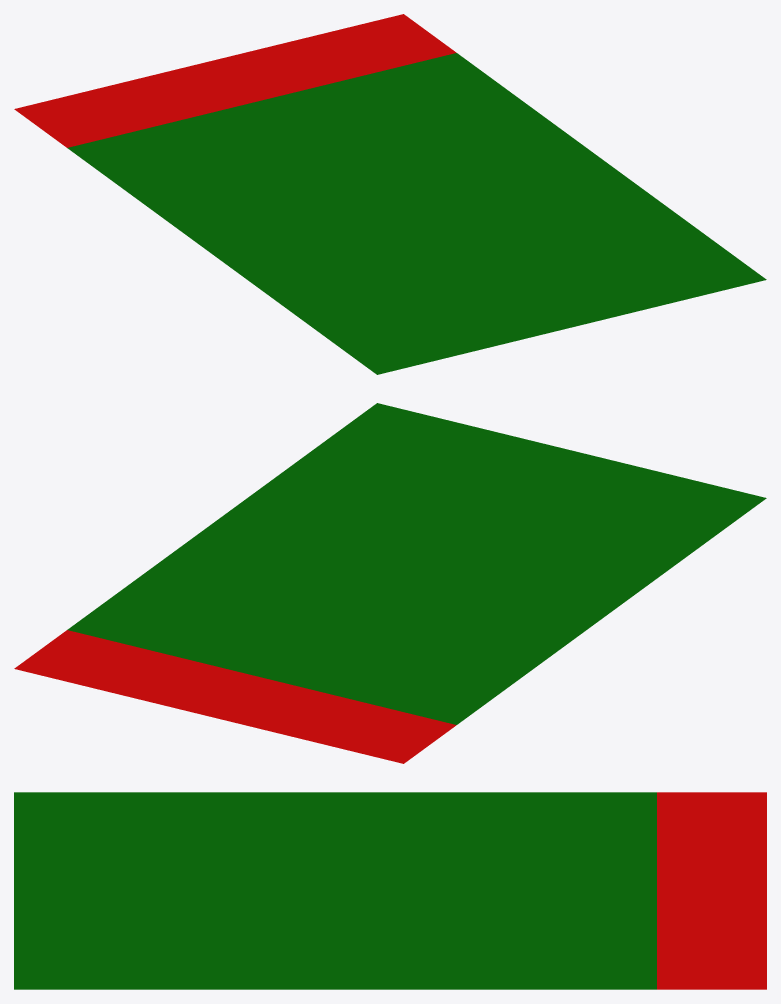
Rendered from Termination Notice.fbx.
3 views of the same model, one above another, from view 1: azimuth 30°, elevation 25°; view 2: azimuth 150°, elevation 25°; view 3: azimuth 270°, elevation 25° (orthographic). The views are drawn at different scales.
Parts seen in each view (by area): view 1: Notice of termination; view 2: Notice of termination; view 3: Notice of termination.
Part boxes in pixels (left/top/right/bottom): Notice of termination: left=14, top=14, right=766, bottom=374; Notice of termination: left=14, top=403, right=766, bottom=763; Notice of termination: left=14, top=792, right=766, bottom=989.
Bounding box in the file's own units: 20.86 × 5.49e-06 × 33.67.
